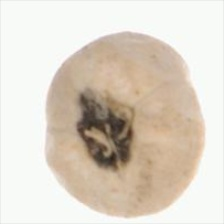L4: (44, 32, 205, 217)
